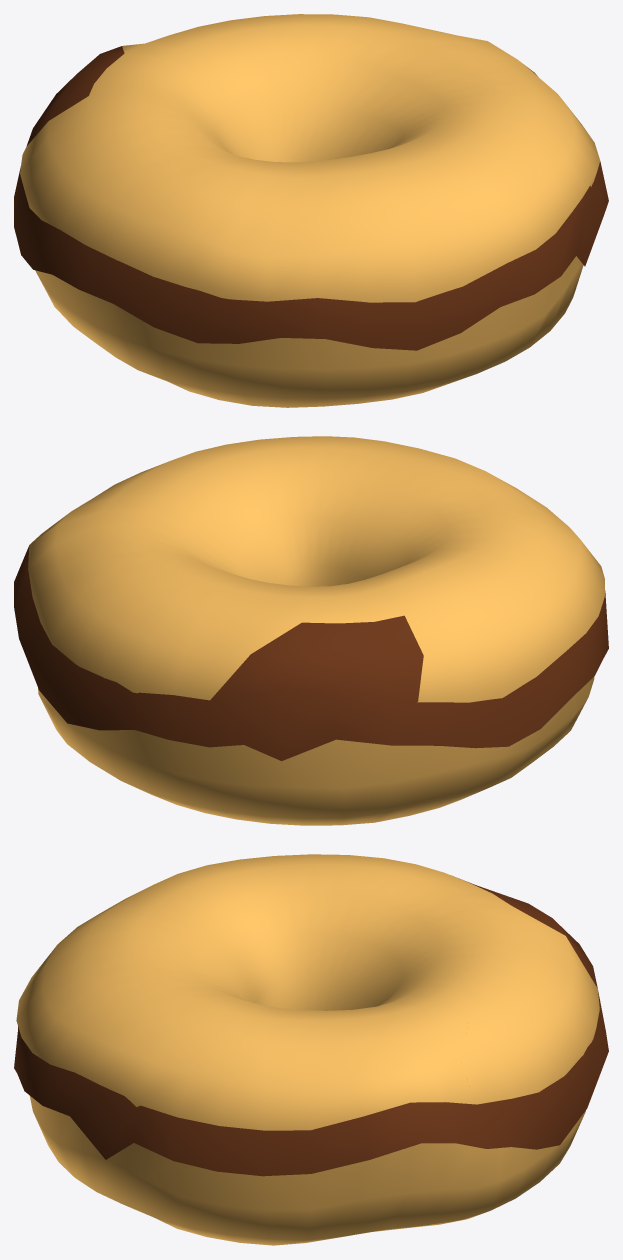
Rendered from Donut.glb.
3 views of the same model, one above another, from view 1: azimuth 30°, elevation 25°; view 2: azimuth 150°, elevation 25°; view 3: azimuth 270°, elevation 25° (orthographic).
Parts seen in each view (by area): view 1: Donut, Icing; view 2: Donut, Icing; view 3: Donut, Icing.
Boxes of the visible parts, <box> form: Donut: <box>20,14,600,407</box>; Icing: <box>14,46,608,350</box>; Donut: <box>28,436,604,825</box>; Icing: <box>14,545,608,761</box>; Donut: <box>16,854,599,1245</box>; Icing: <box>14,876,608,1176</box>.
Size of what is drawn, in the model's own units: 0.1 by 0.044 by 0.0993.
